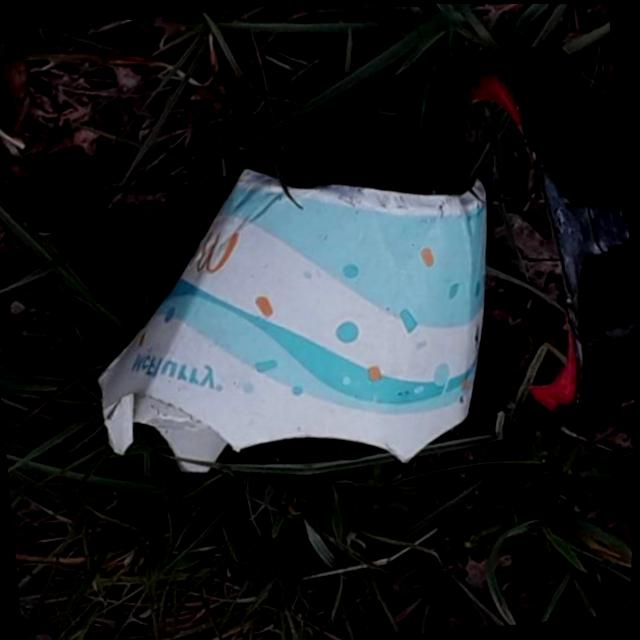Paper: (73, 135, 517, 499)
